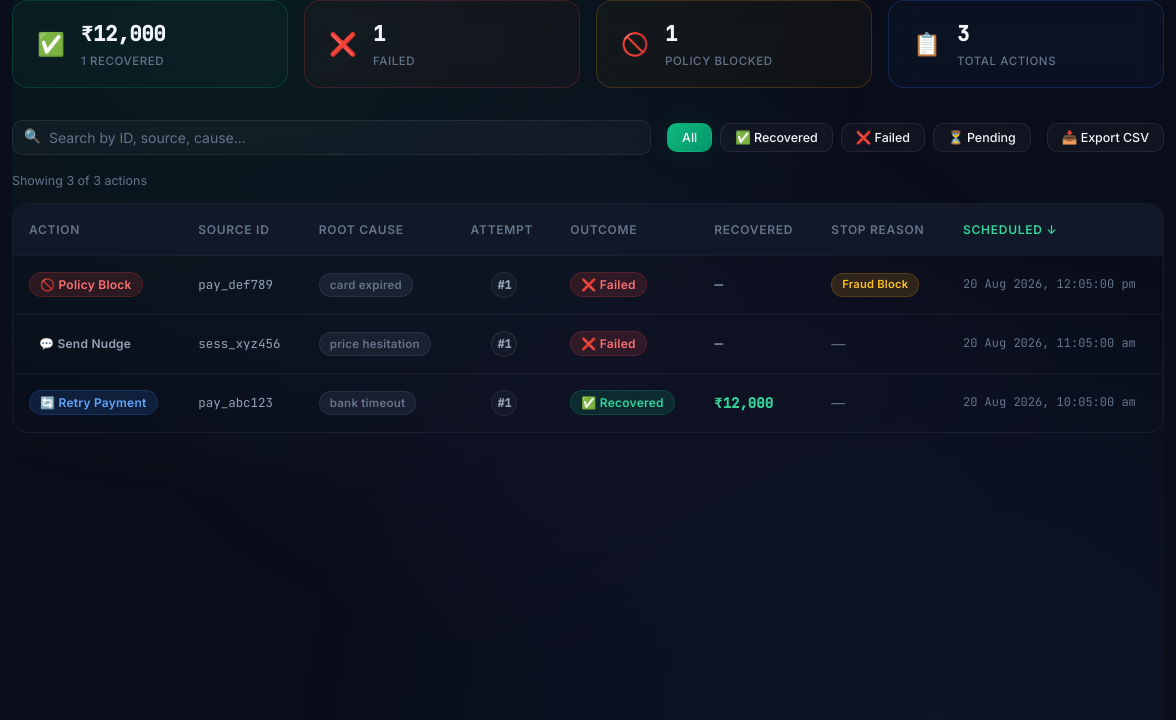
Test case: ActionsView › FE-ACT-10: search by source_id filters rows
Check: the text "pay_abc123" is shown, box left=182, top=373, right=303, bottom=432
Type "pay_abc123" into the field with placeholder "Search by ID, source, cause..." at (332, 137), box left=12, top=120, right=651, bottom=155
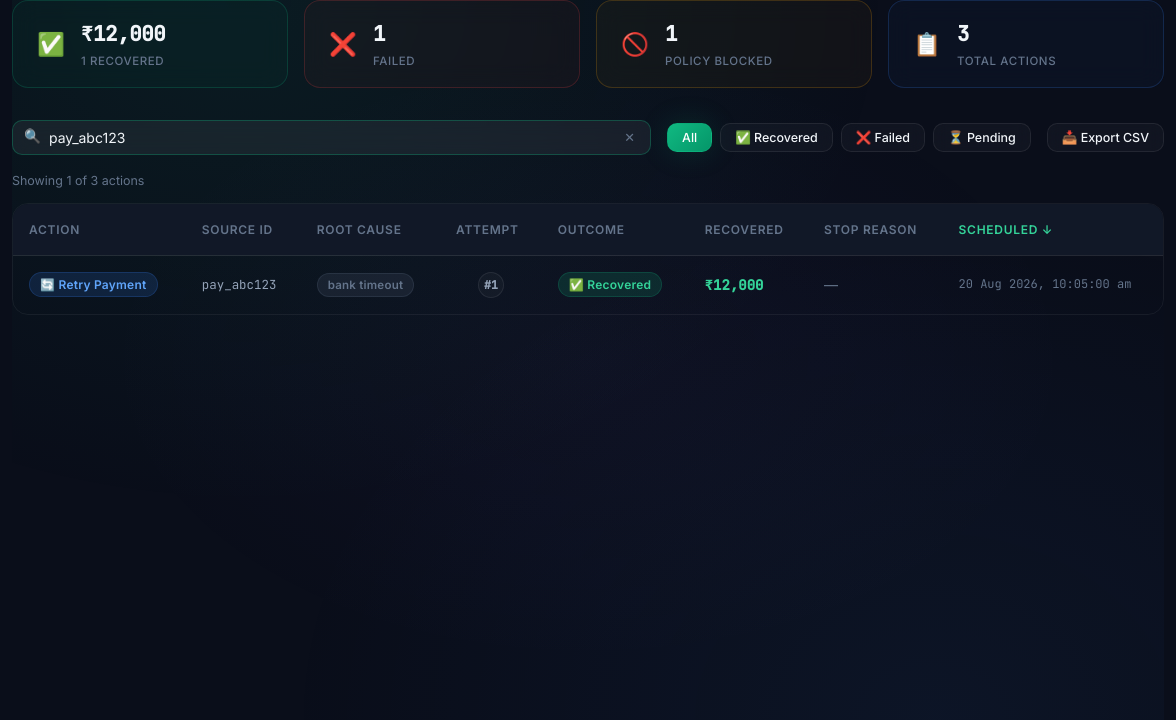
Check: the text "pay_abc123" is shown, box left=186, top=255, right=301, bottom=314
Check: the text "sess_xyz456" is gone
